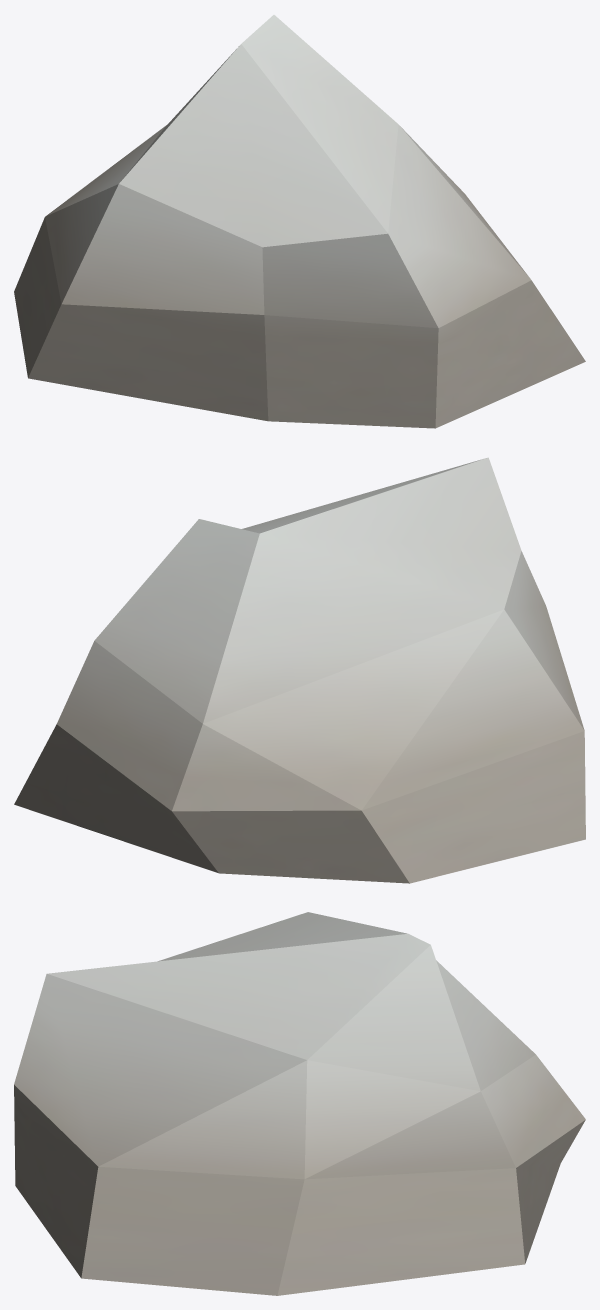
File: Flat_Rock_B_Snow.obj
3 renders of one model, top to bottom at view 1: azimuth 30°, elevation 25°; view 2: azimuth 150°, elevation 25°; view 3: azimuth 270°, elevation 25°, orthographic. The views are drawn at different scales.
Parts seen in each view (by area): view 1: Flat_Rock_B_Snow; view 2: Flat_Rock_B_Snow; view 3: Flat_Rock_B_Snow.
Part boxes in pixels (x1,y1,x2,y2): Flat_Rock_B_Snow: [14, 15, 585, 428]; Flat_Rock_B_Snow: [14, 457, 585, 883]; Flat_Rock_B_Snow: [14, 912, 585, 1295].
Bounding box in the file's own units: 0.3022 × 0.1562 × 0.3078.
